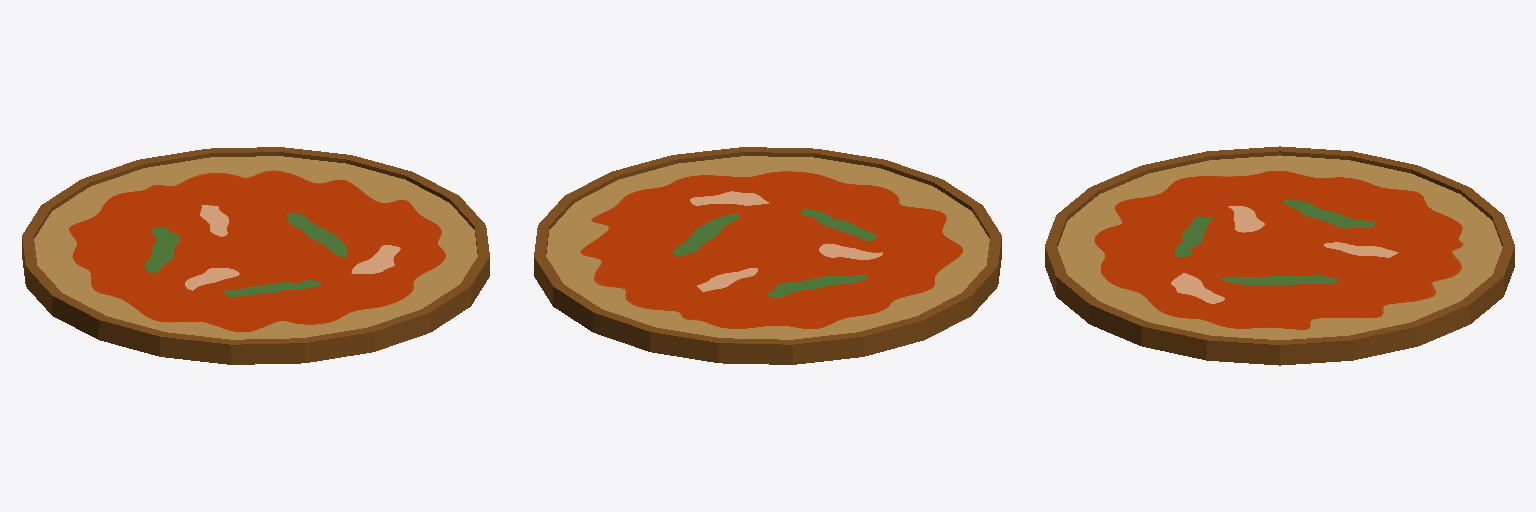
The picture shows the model from 3 angles: view 1: azimuth 30°, elevation 25°; view 2: azimuth 150°, elevation 25°; view 3: azimuth 270°, elevation 25°; orthographic projection.
Parts seen in each view (by area): view 1: pCylinder1, pPipe1; view 2: pCylinder1, pPipe1; view 3: pCylinder1, pPipe1.
Boxes of the visible parts, box(x1,y1,x2,y2) form: pCylinder1: box(34, 156, 477, 339); pPipe1: box(22, 147, 489, 364); pCylinder1: box(546, 156, 989, 339); pPipe1: box(534, 147, 1001, 364); pCylinder1: box(1057, 155, 1502, 339); pPipe1: box(1045, 146, 1514, 365).
Bounding box in the file's own units: 1.05 × 0.05 × 1.05.
Materials: 2 (2 with a texture image).